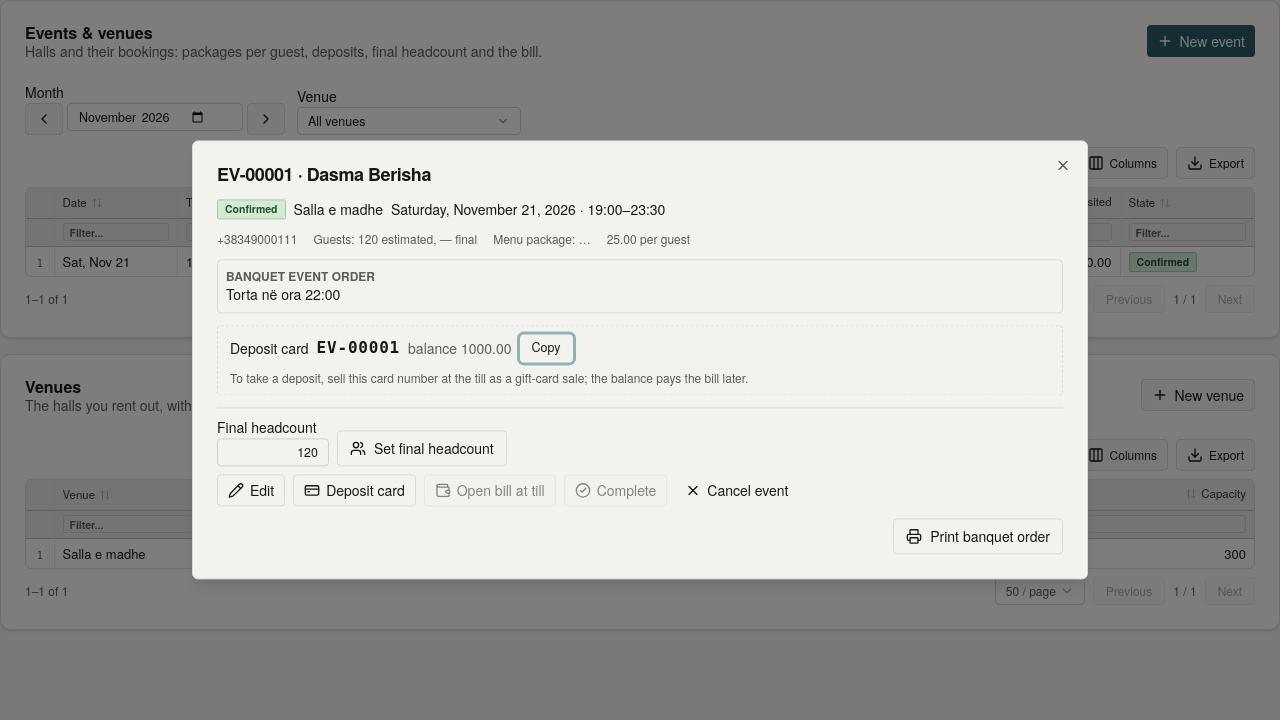
Ticketed events and venues (P5) › sets an event's final headcount: the bill opens with the package per guest, as the server prices it
Expected: the element with test id "deposit-card" shows "EV-00001", left=317, top=339, right=400, bottom=358
Replace the text in the field labelled "Final headcount" with "118" at [273, 453], box left=217, top=439, right=329, bottom=467
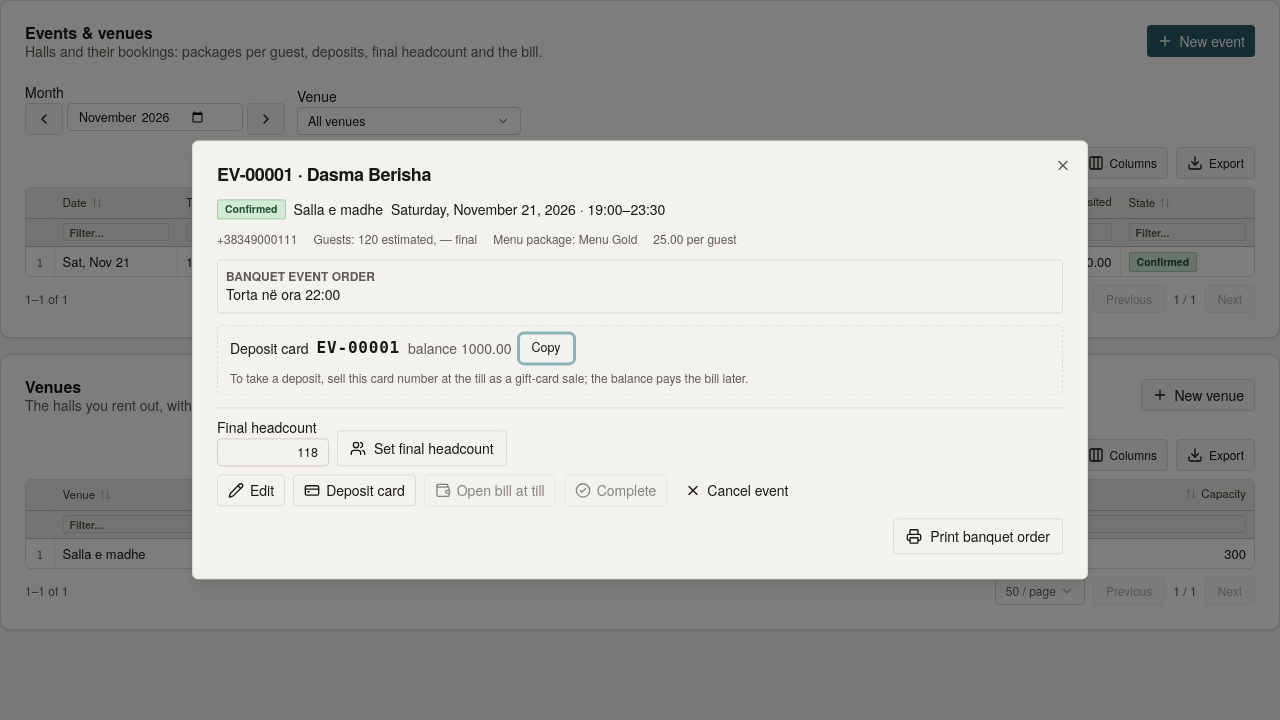
Click the button "Set final headcount".
click(422, 449)  # box left=337, top=431, right=507, bottom=467
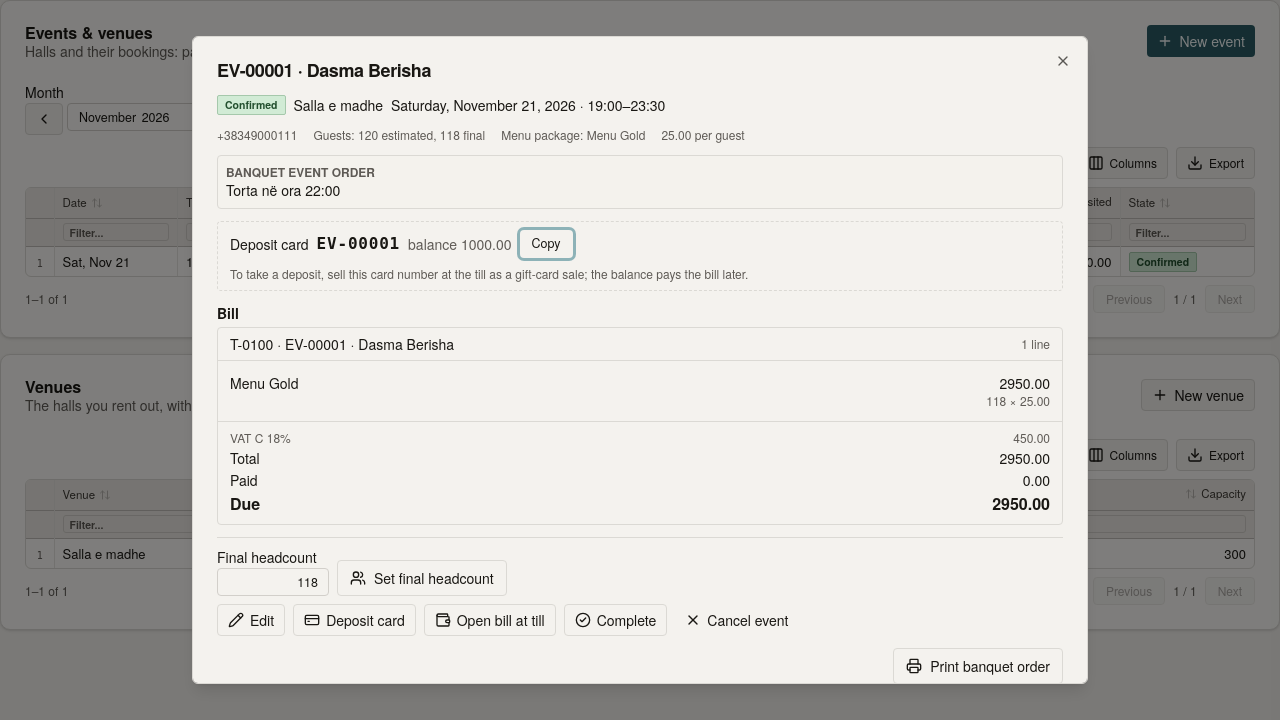
Expected: the element with test id "folio" shows "Menu Gold", left=230, top=373, right=298, bottom=393
Expected: the element with test id "folio" shows "2950.00", left=999, top=373, right=1050, bottom=393
Expected: the text with test id "folio-due" reads "2950.00", left=992, top=492, right=1050, bottom=515
